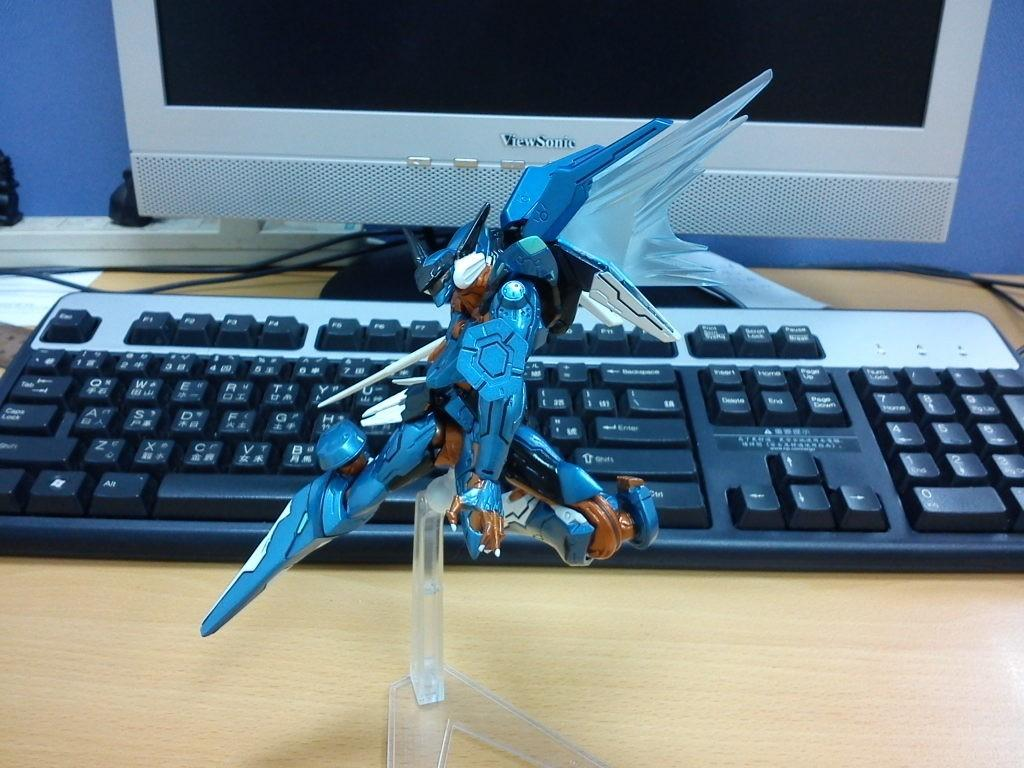Computer-keyboard: (0, 292, 1023, 572)
